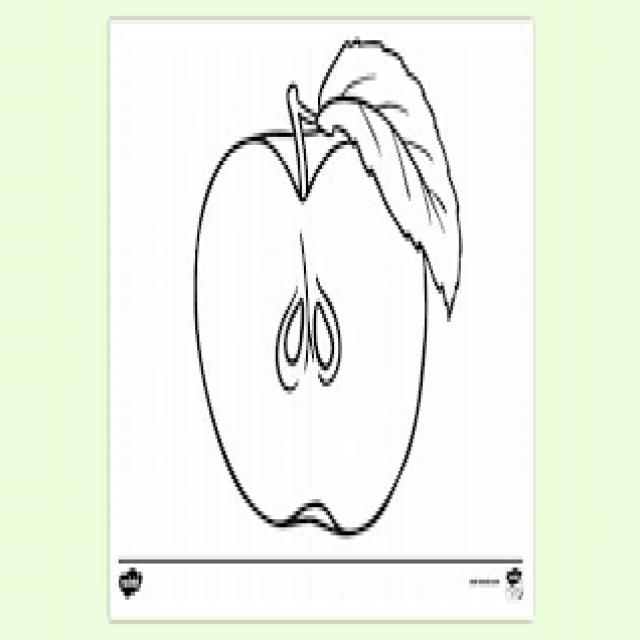Apple: (191, 95, 428, 538)
